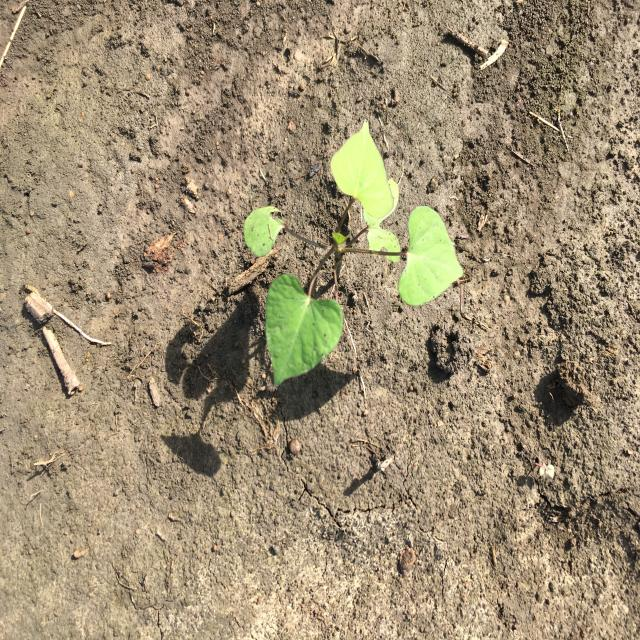MorningGlory: (242, 118, 466, 391)
